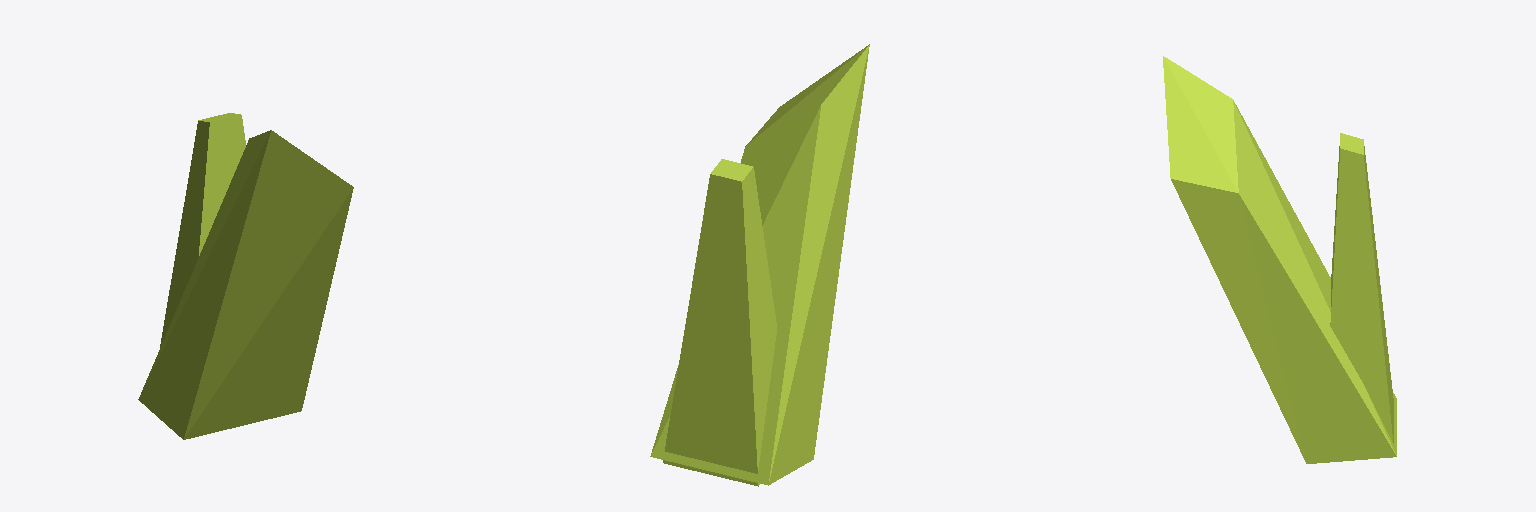
File: treeobj1.obj
The picture shows the model from 3 angles: view 1: azimuth 30°, elevation 25°; view 2: azimuth 150°, elevation 25°; view 3: azimuth 270°, elevation 25°; orthographic projection.
Visible parts, largest first — view 1: Box001; view 2: Box001; view 3: Box001.
Boxes of the visible parts, <box> form: Box001: <box>138,113,353,439</box>; Box001: <box>650,44,869,486</box>; Box001: <box>1163,56,1396,463</box>.
Bounding box in the file's own units: 6.91 × 20.05 × 11.87.